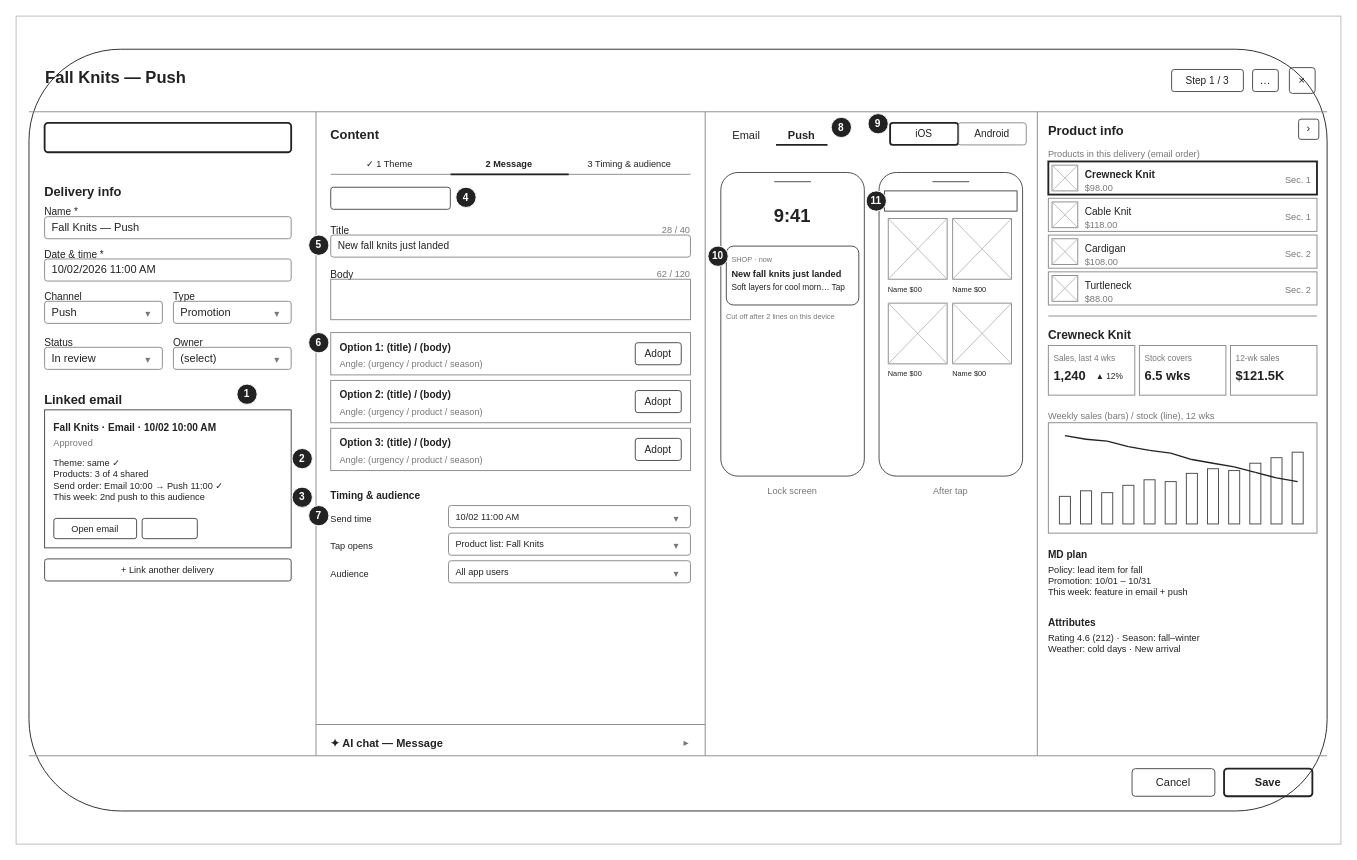
This 1357x860 diagram has some shape labels left out. The shapes that lost their labels are listed below. From the top down, each one's box as (x1, y1, x2, y2) in pixels, then its label:
(43, 121, 292, 153): ✦ Draft all with AI
(330, 186, 450, 209): ✦ Suggest with AI
(884, 190, 1017, 211): Fall Knits
(330, 278, 690, 320): Soft layers for cool mornings. Tap to see the crewneck and cable knits.
(141, 518, 197, 539): Unlink
